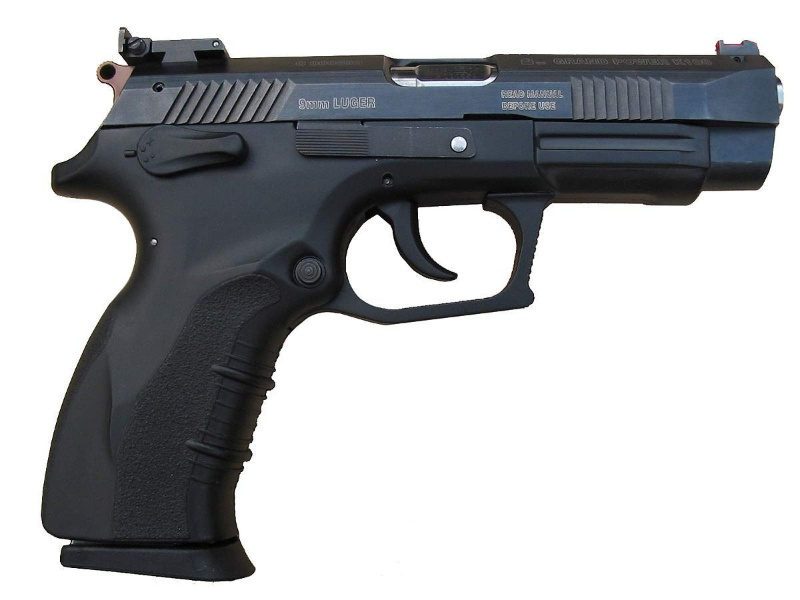gun: (38, 23, 788, 578)
